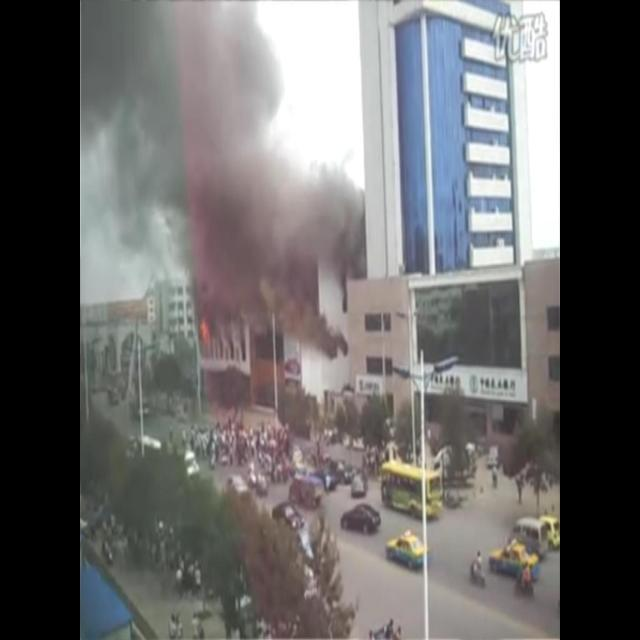Smoke: (79, 1, 368, 358)
